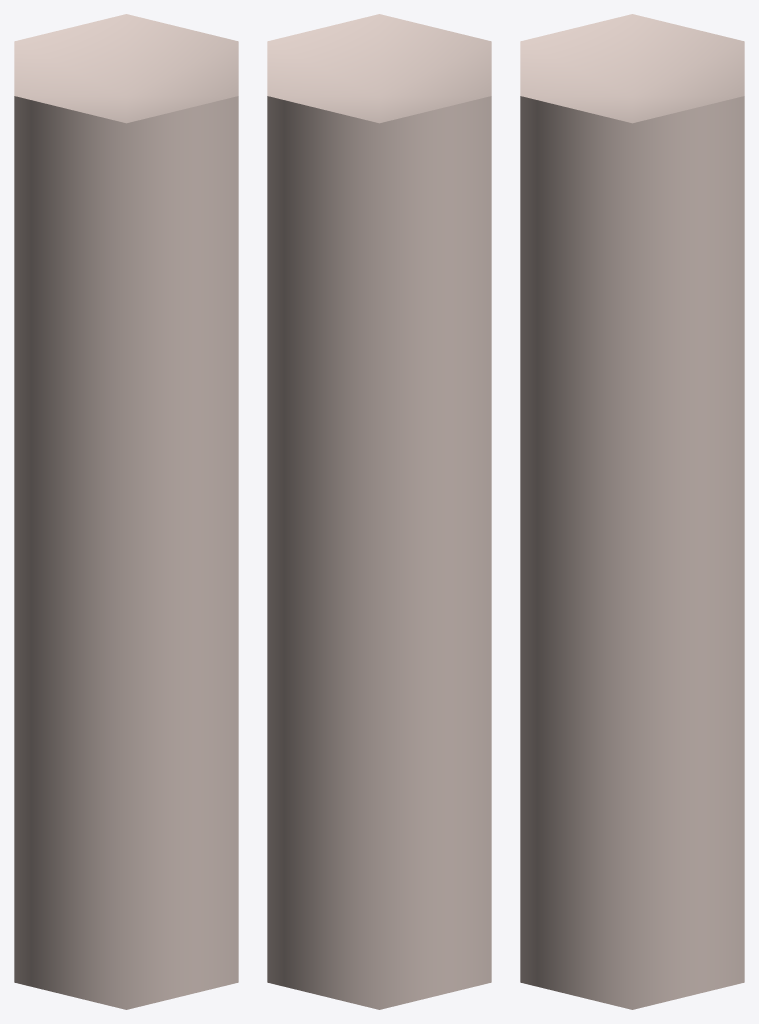
File: Candle_t.fbx
3 renders of one model, left to right at view 1: azimuth 30°, elevation 25°; view 2: azimuth 150°, elevation 25°; view 3: azimuth 270°, elevation 25°, orthographic.
Parts seen in each view (by area): view 1: candle1; view 2: candle1; view 3: candle1.
Boxes of the visible parts, x1,y1,x2,y2 form: candle1: (14, 14, 238, 1009); candle1: (267, 14, 491, 1009); candle1: (520, 14, 744, 1009).
Bounding box in the file's own units: 0.02 × 0.0756 × 0.0173.
